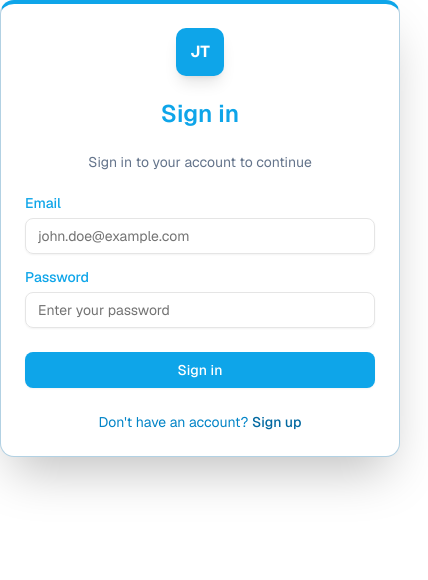
Test: LoginForm › should display error message when login fails
The image size is (428, 580).
Type "test@example.com" into the field labelled "Email" at (200, 236), box [25,218,375,254]
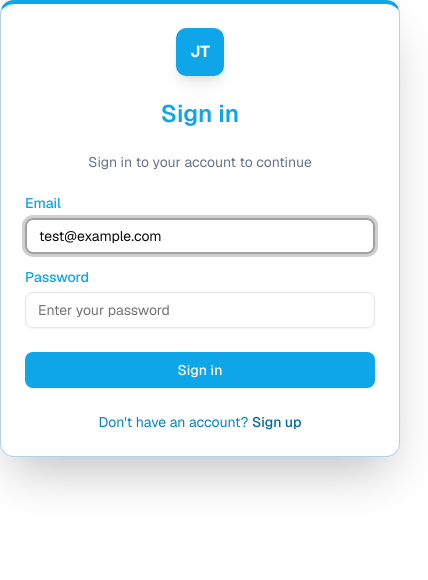
Type "wrongpassword" into the password field labelled "Password" at (200, 310), box [25,292,375,328]
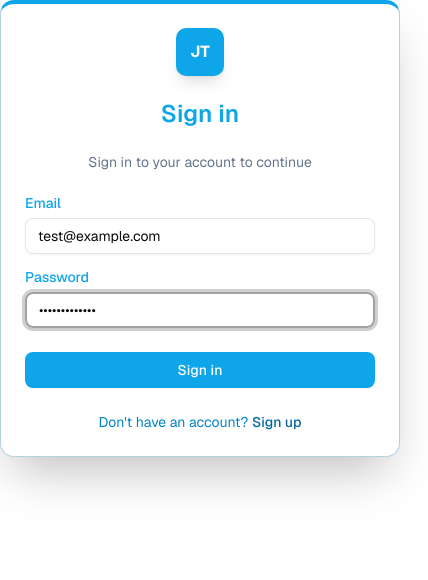
Click the button "Sign in" at (200, 370), box [25,352,375,388]
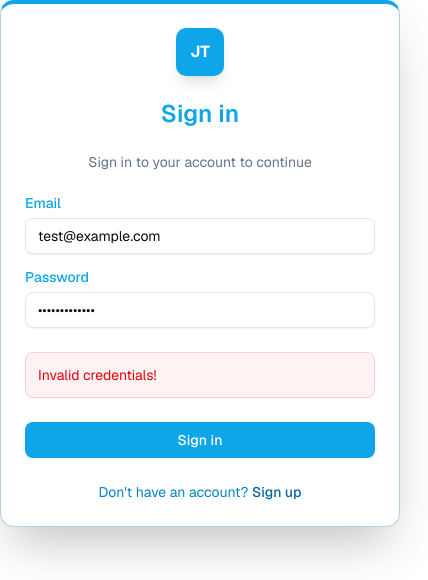
Expected: the text "Invalid credentials!" is shown, [25,352,375,398]
